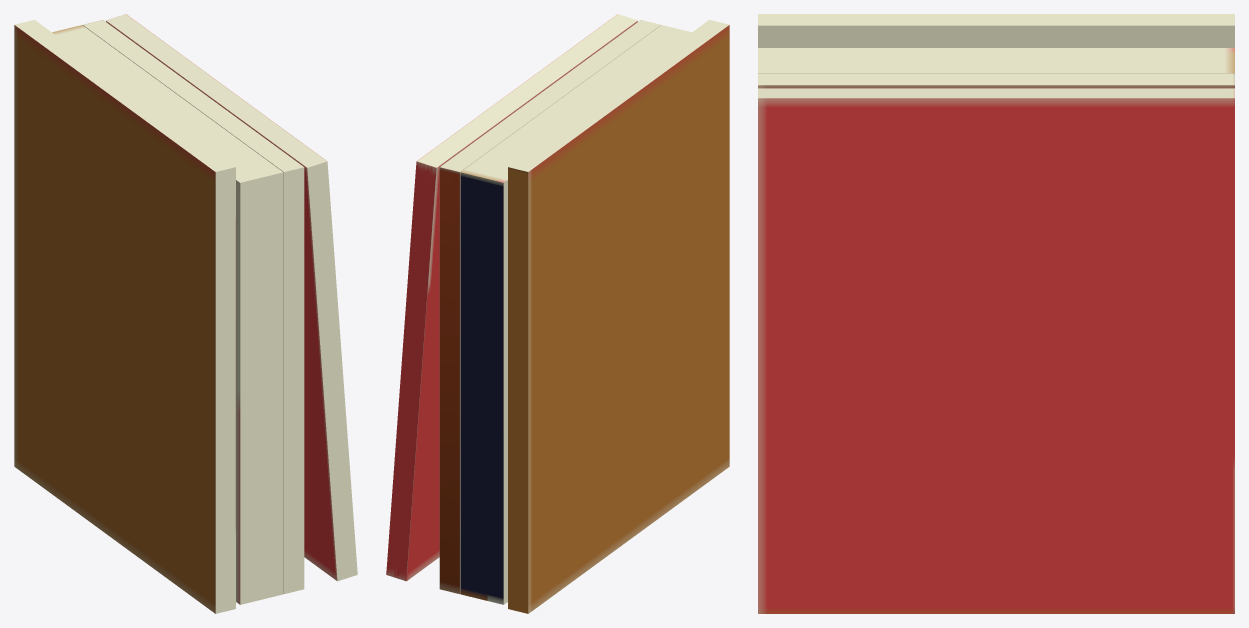
File: SM_Book_2.fbx
3 renders of one model, left to right at view 1: azimuth 30°, elevation 25°; view 2: azimuth 150°, elevation 25°; view 3: azimuth 270°, elevation 25°, orthographic. The views are drawn at different scales.
Visible parts, largest first — view 1: SHELF.035; view 2: SHELF.035; view 3: SHELF.035.
Boxes of the visible parts, <box> form: SHELF.035: <box>14,14,357,613</box>; SHELF.035: <box>386,14,729,613</box>; SHELF.035: <box>758,14,1234,613</box>.
Size of the model in its own units: 14.11 by 41.91 by 34.61.
